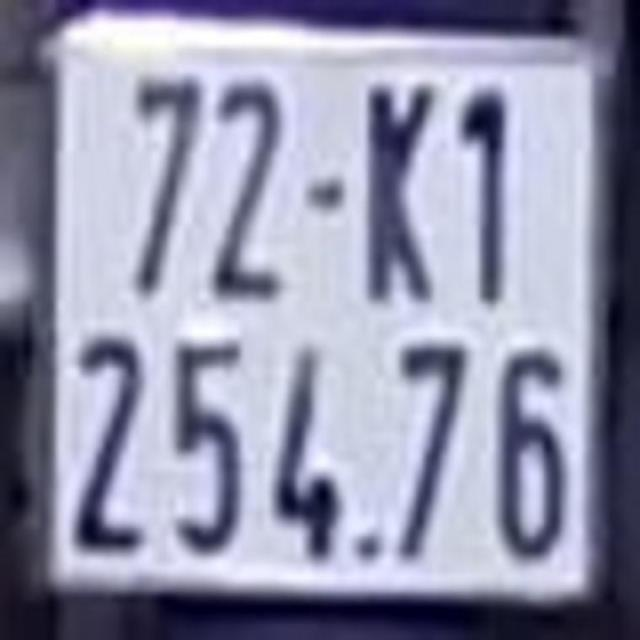1: (460, 87, 510, 296)
2: (212, 80, 291, 298), (73, 337, 138, 546)
4: (272, 340, 339, 554)
5: (169, 338, 242, 557)
6: (498, 348, 564, 551)
7: (386, 338, 469, 559), (123, 74, 200, 296)
K: (364, 91, 441, 304)
